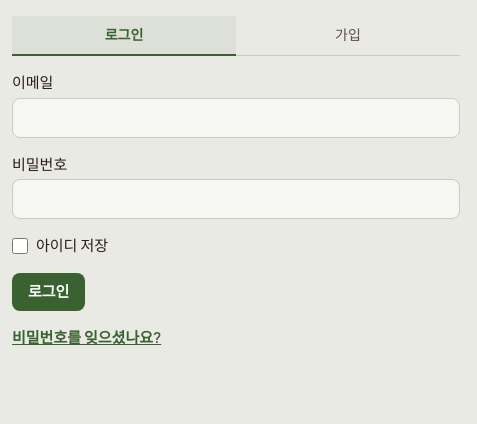
it: journal login: save ID › does not save when login fails
Type "a@b.co" into the field labelled "이메일" at (236, 118), box top-left (12, 98), bottom-right (460, 138)
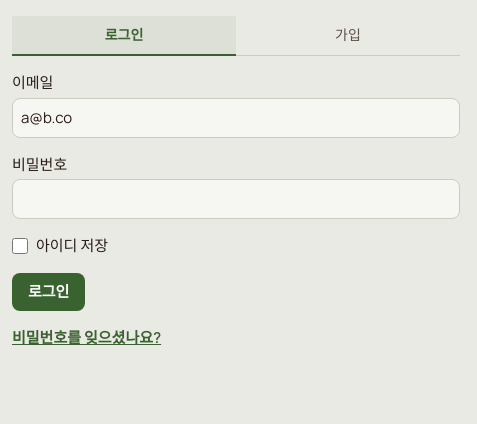
Type "bad" into the password field labelled "비밀번호" at (236, 199), box top-left (12, 179), bottom-right (460, 219)
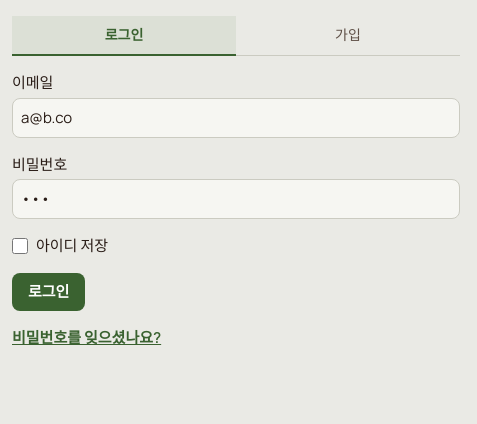
Click the checkbox labelled "아이디 저장" at (20, 246), box top-left (12, 238), bottom-right (28, 254)
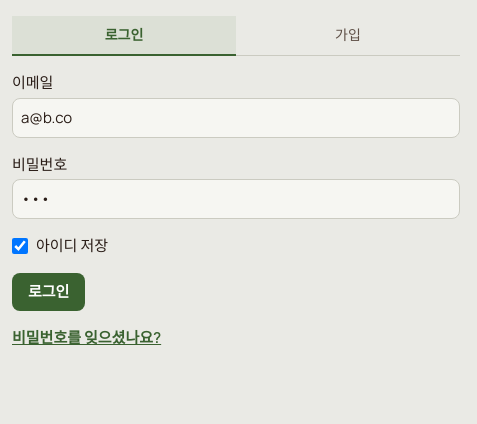
Submit the form
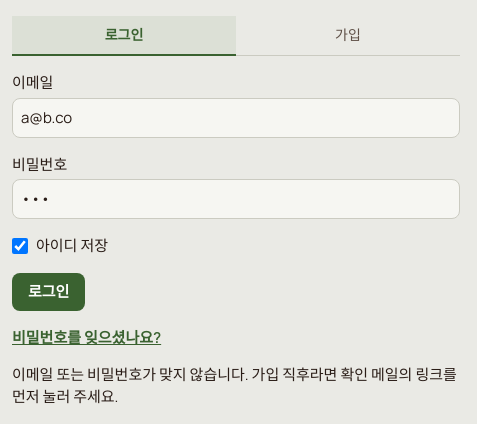
Expected: the message "이메일 또는 비밀번호가 맞지 않습니다. 가입 직후라면 확인 메일의 링크를 먼저 눌러 주세요." is shown, top-left (12, 364), bottom-right (460, 408)
